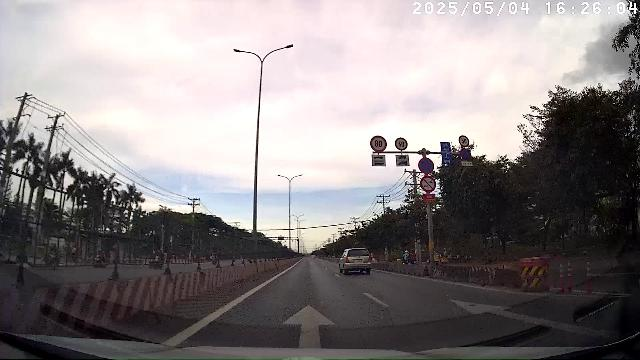127-toc-do-toi-da-50: (458, 134, 470, 147)
127-toc-do-toi-da-60: (394, 136, 409, 151)
127-toc-do-toi-da-80: (369, 134, 388, 151)
130-cam-dung-va-do-xe: (418, 157, 434, 174)
